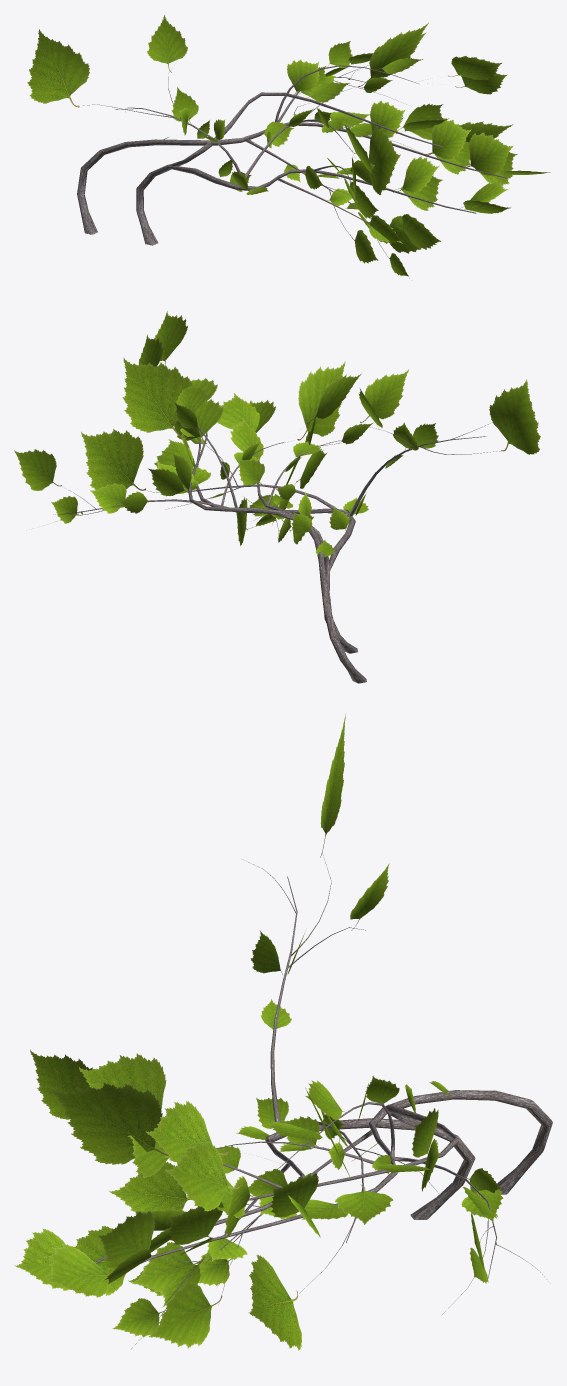
The model's file is Plant03.fbx.
The picture shows the model from 3 angles, top to bottom: view 1: azimuth 30°, elevation 25°; view 2: azimuth 150°, elevation 25°; view 3: azimuth 270°, elevation 25°; orthographic projection. The views are drawn at different scales.
Parts seen in each view (by area): view 1: plants03; view 2: plants03; view 3: plants03.
Boxes of the visible parts, x1,y1,x2,y2 form: plants03: (27,15,550,278); plants03: (14,311,540,683); plants03: (14,713,552,1350).
Size of the model in its own units: 1868 by 1050 by 1230.
